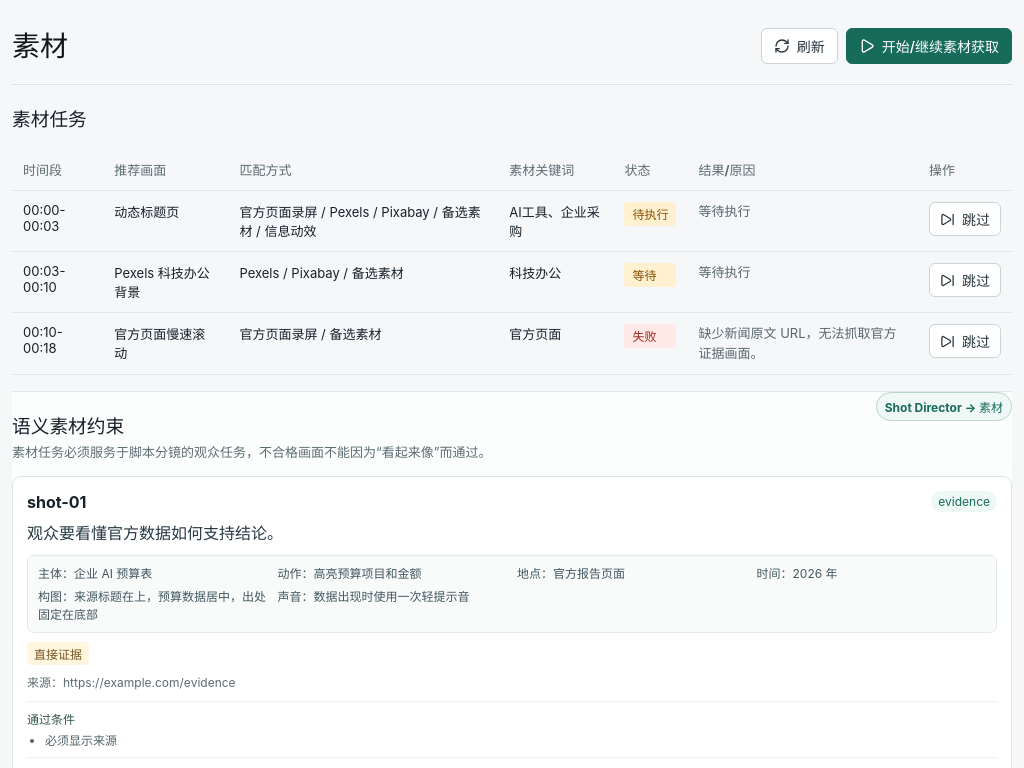
素材库页面 › 可以手动跳过单条素材任务并刷新状态
Click the button "跳过" in the row of "00:03-00:10".
click(965, 280)  # box x1=929 y1=263 x2=1001 y2=297
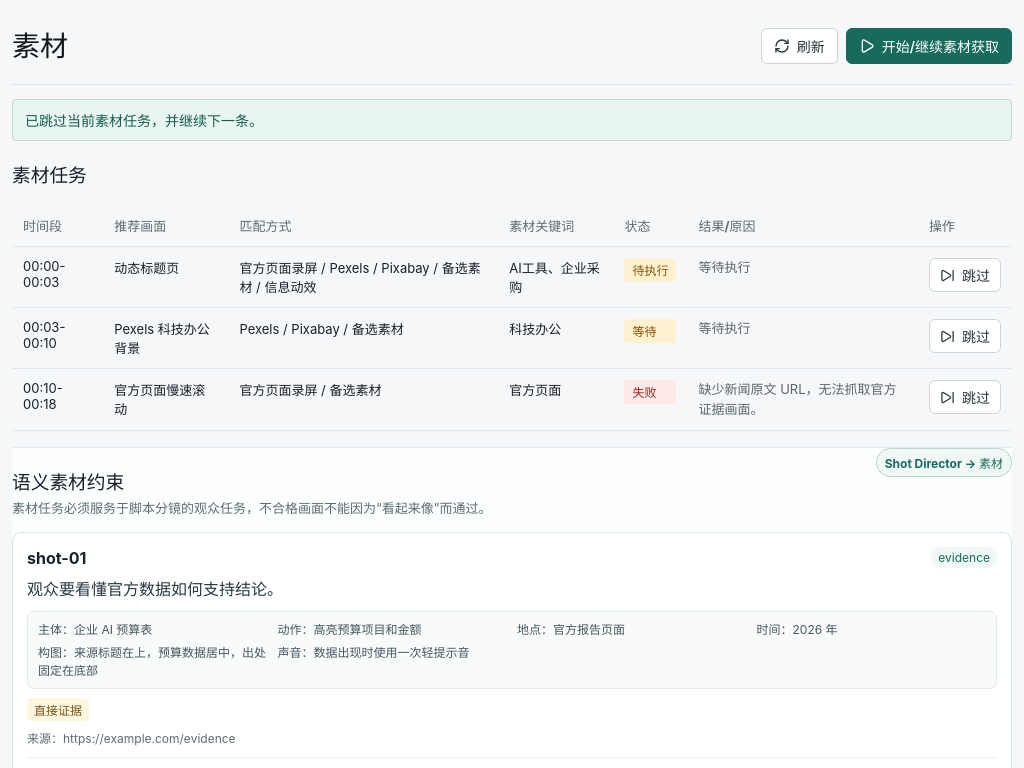
Expected: the text "已跳过当前素材任务，并继续下一条。" is shown, x1=12 y1=99 x2=1012 y2=141
